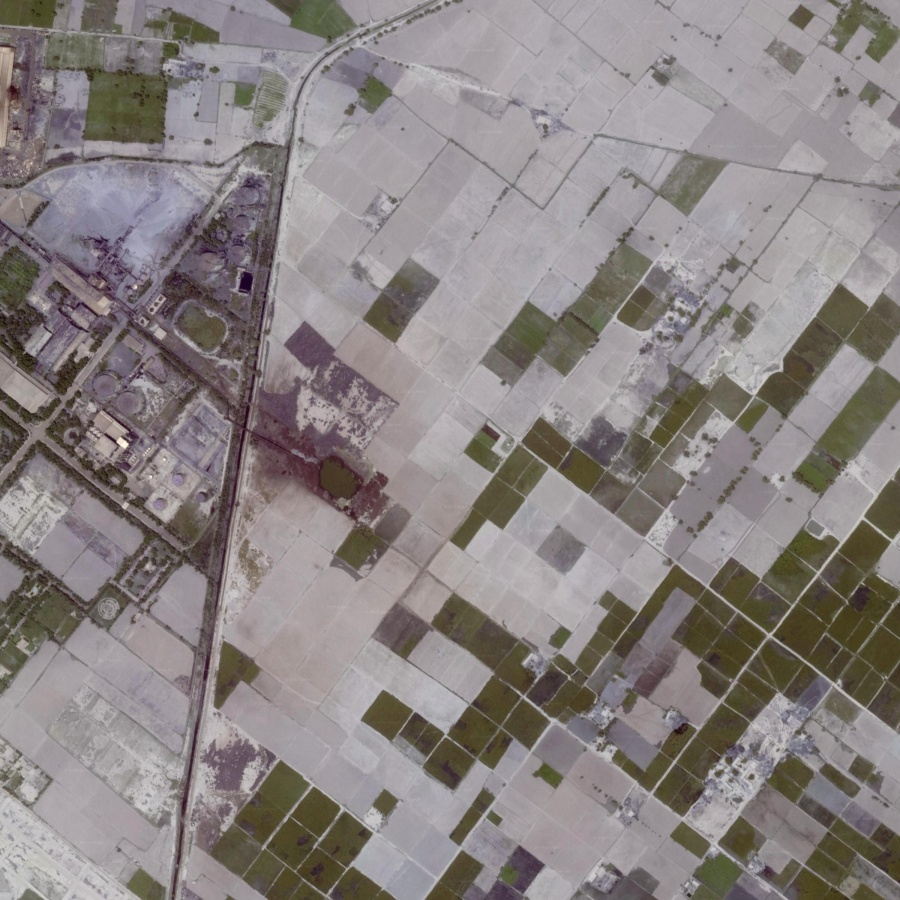PowerPlant: (39, 301, 229, 519)
